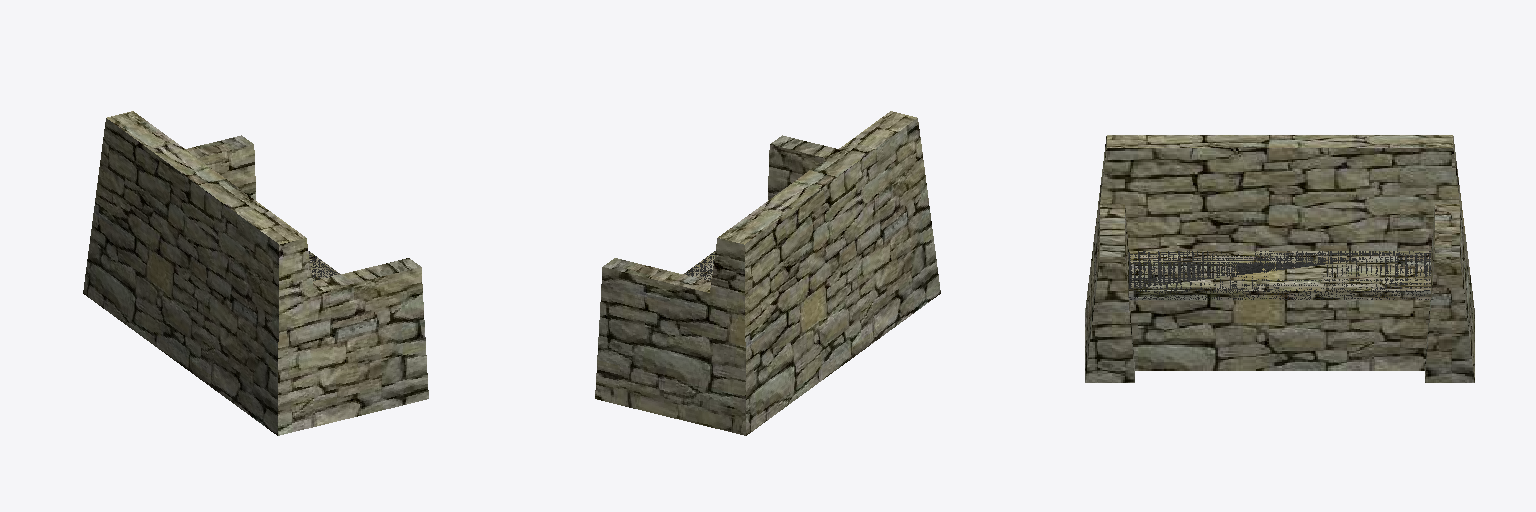
3 renders of one model, left to right at view 1: azimuth 30°, elevation 25°; view 2: azimuth 150°, elevation 25°; view 3: azimuth 270°, elevation 25°, orthographic.
Parts seen in each view (by area): view 1: mesh1_mesh1-geometry; view 2: mesh1_mesh1-geometry; view 3: mesh1_mesh1-geometry.
Boxes of the visible parts, x1,y1,x2,y2 form: mesh1_mesh1-geometry: [83, 111, 428, 435]; mesh1_mesh1-geometry: [595, 111, 940, 435]; mesh1_mesh1-geometry: [1085, 135, 1474, 382].
Bounding box in the file's own units: 0.3709 × 0.4231 × 0.8267.
Materials: 3 (2 with a texture image).